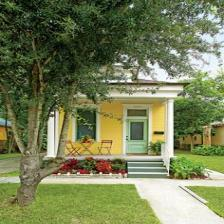yellow: (68, 80, 187, 157), (47, 111, 63, 157)
